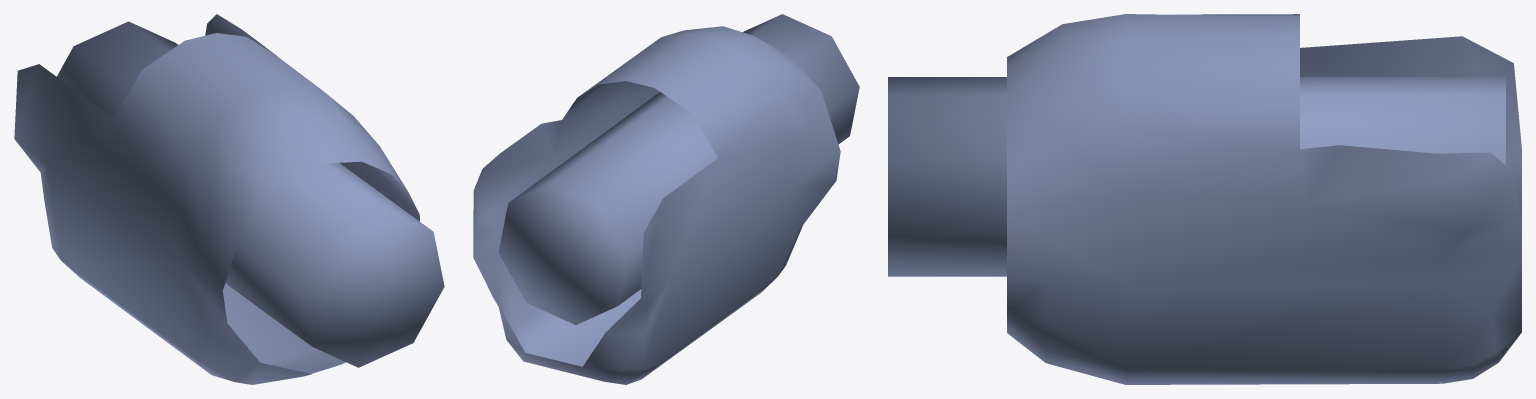
The model's file is icub_simple_collision_r_arm.dae.
3 views of the same model, side by side, from view 1: azimuth 30°, elevation 25°; view 2: azimuth 150°, elevation 25°; view 3: azimuth 270°, elevation 25° (orthographic). The views are drawn at different scales.
Visible parts, largest first — view 1: r_arm_mesh; view 2: r_arm_mesh; view 3: r_arm_mesh.
Boxes of the visible parts, x1=… form: r_arm_mesh: x1=14, y1=14, x2=444, y2=384; r_arm_mesh: x1=473, y1=14, x2=859, y2=384; r_arm_mesh: x1=888, y1=14, x2=1521, y2=384.
Bounding box in the file's own units: 0.0712 × 0.0911 × 0.16.
